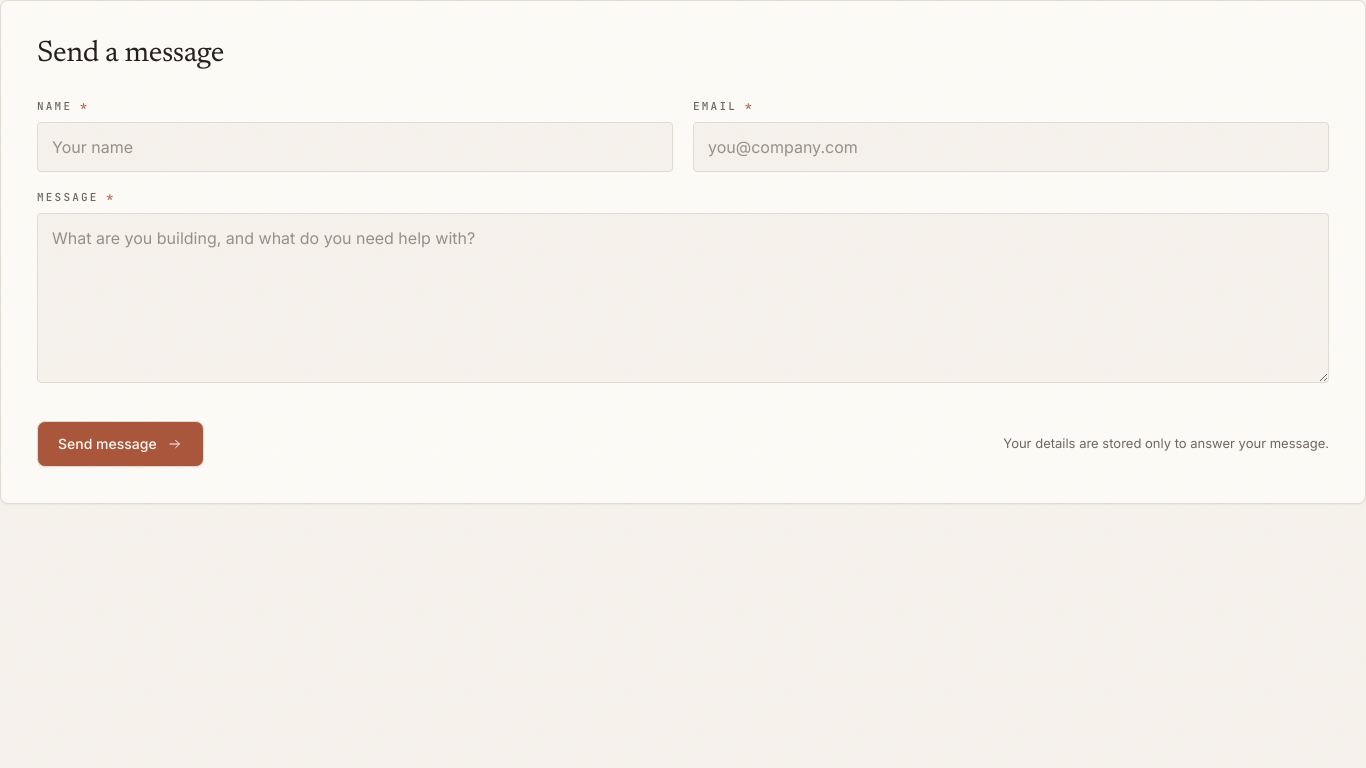
it: <ContactForm /> › shows validation errors and does not submit when required fields are empty
This screenshot has width=1366, height=768.
Click the button "Send message" at (120, 444), box [37, 420, 204, 466]
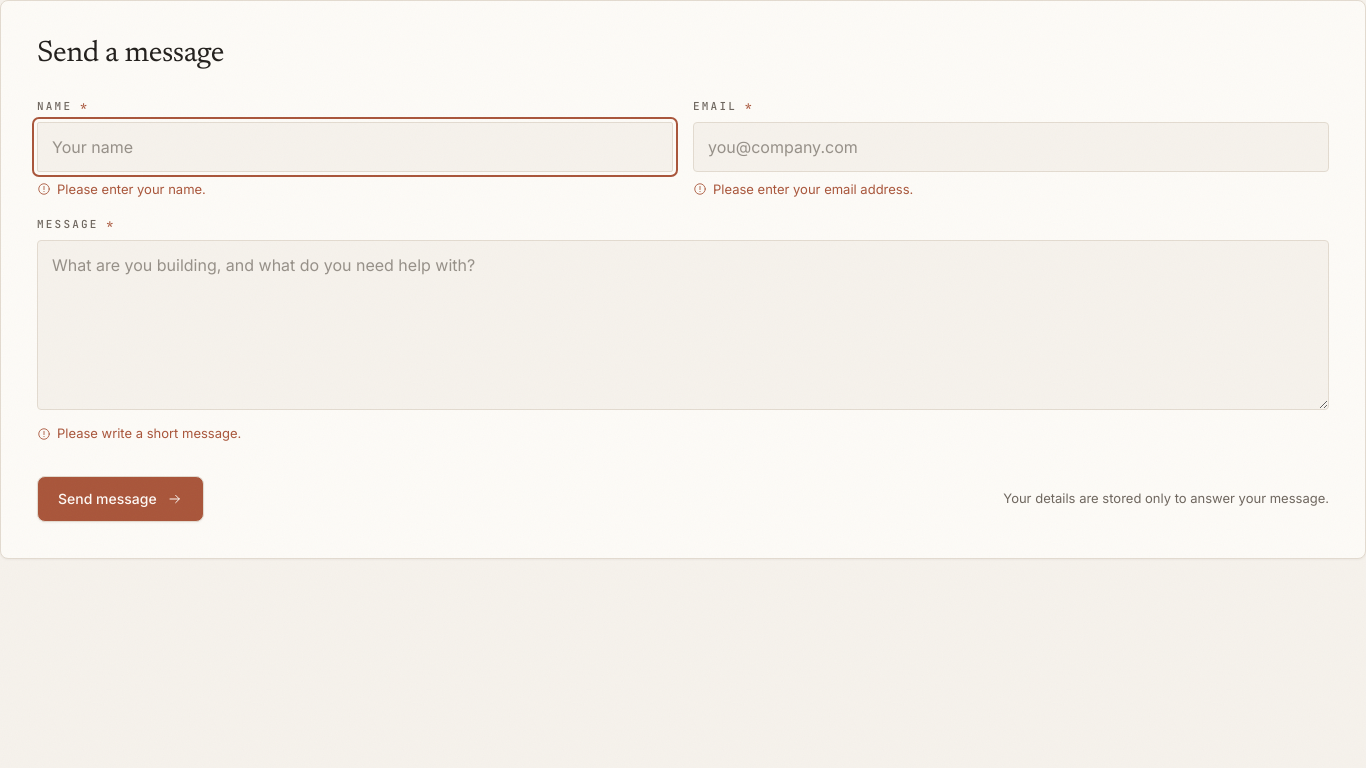
Check: the text "Please enter your name." is shown, box [37, 180, 206, 196]
Check: the text "Please enter your email address." is shown, box [693, 180, 913, 196]
Check: the text "Please write a short message." is shown, box [37, 425, 241, 441]
